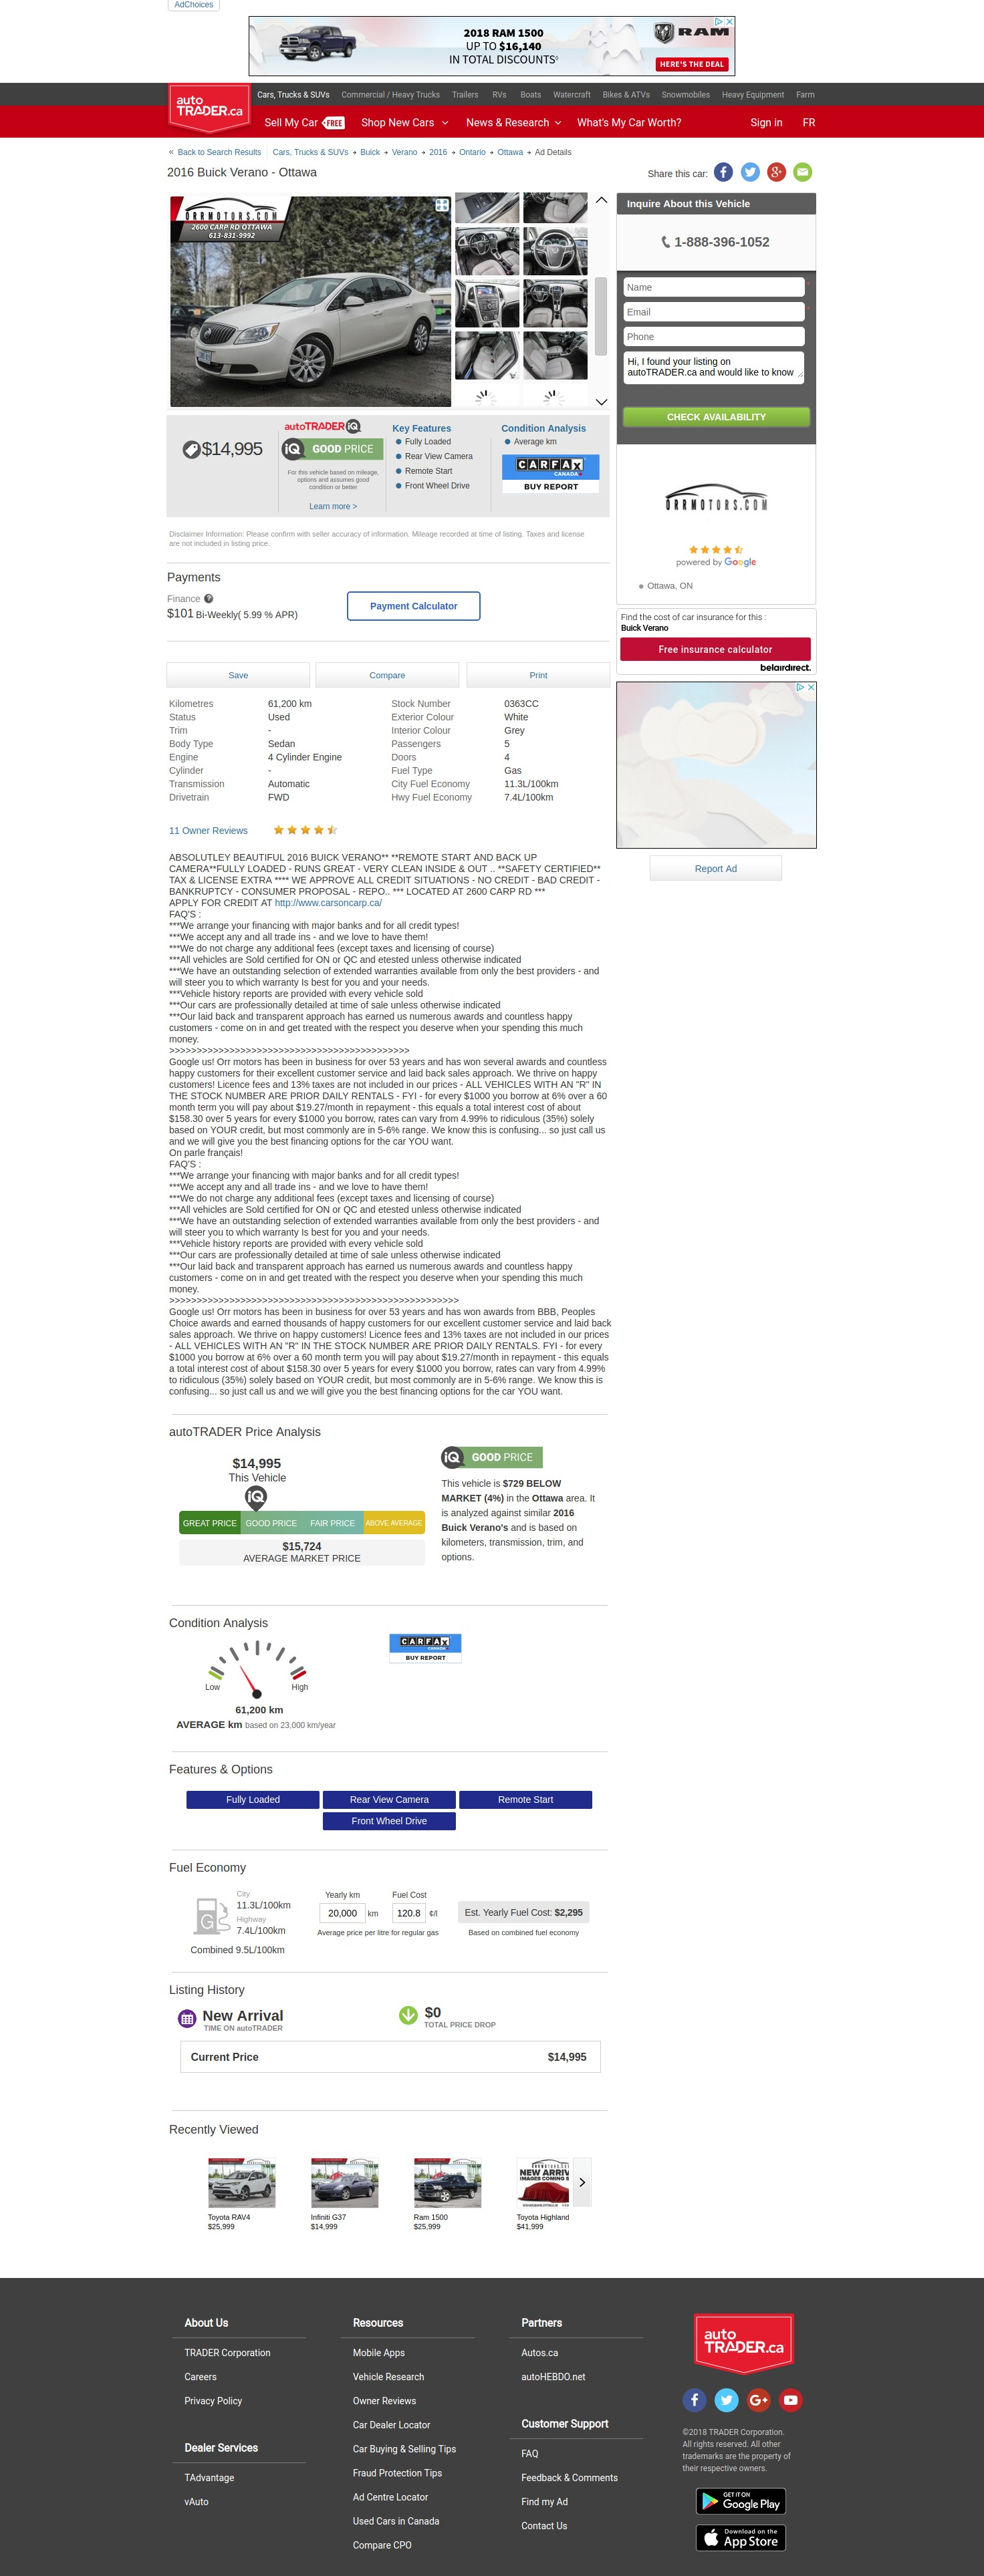car: (595, 398, 609, 407)
